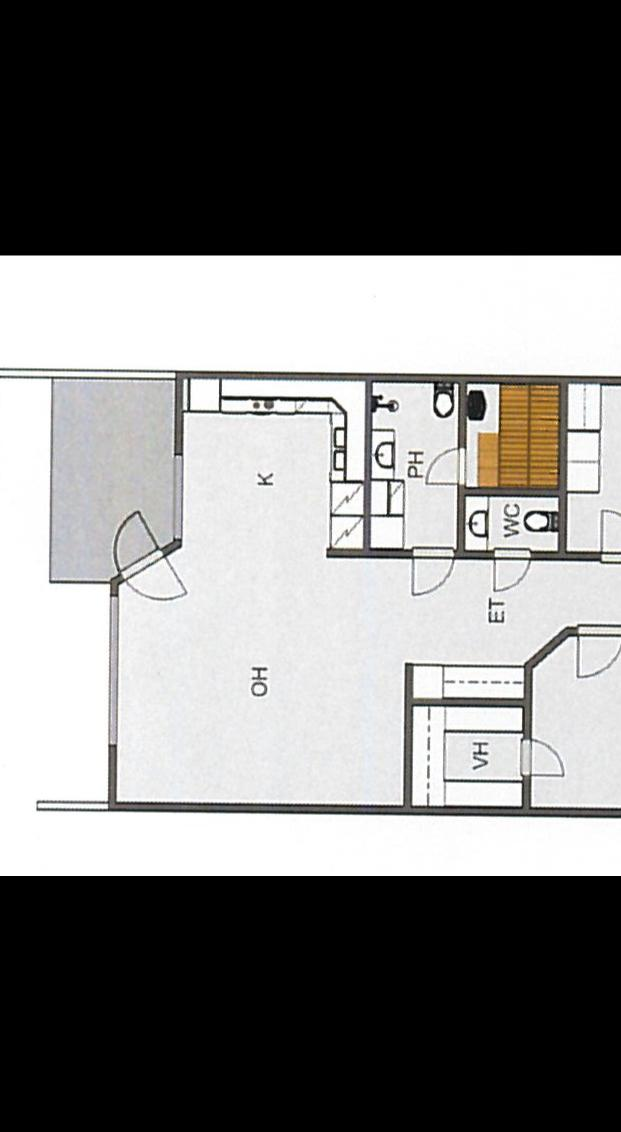door: (109, 508, 166, 577), (116, 553, 187, 607), (572, 619, 621, 679), (514, 733, 572, 780), (404, 542, 451, 596), (423, 447, 470, 494), (488, 547, 527, 599), (591, 509, 621, 567)
window: (97, 590, 124, 755), (161, 444, 188, 546)
